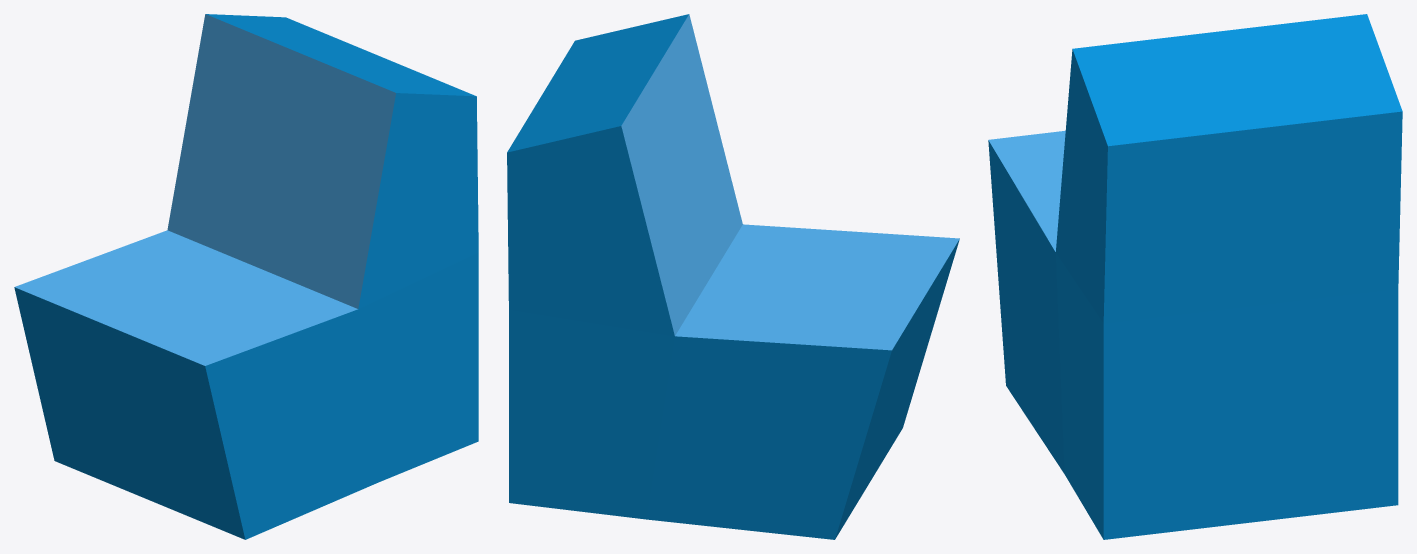
The model's file is CubeChair.fbx.
3 views of the same model, side by side, from view 1: azimuth 30°, elevation 25°; view 2: azimuth 150°, elevation 25°; view 3: azimuth 270°, elevation 25° (orthographic). The views are drawn at different scales.
Parts seen in each view (by area): view 1: CubeChair; view 2: CubeChair; view 3: CubeChair.
Part boxes in pixels (<box>): CubeChair: <box>14,14,478,539</box>; CubeChair: <box>507,14,959,539</box>; CubeChair: <box>988,14,1402,539</box>.
Bounding box in the file's own units: 114 × 108 × 92.82.
